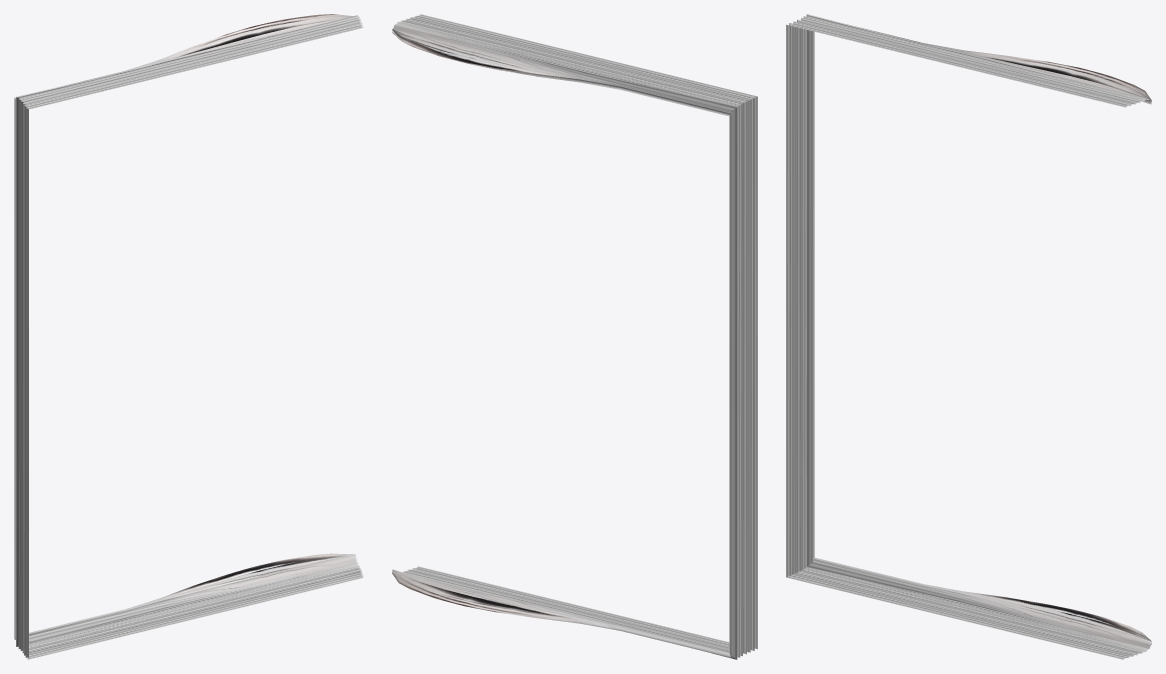
The model's file is MeshRobothorBookFront_5_1_GeomSubset_1.obj.
3 renders of one model, left to right at view 1: azimuth 30°, elevation 25°; view 2: azimuth 150°, elevation 25°; view 3: azimuth 330°, elevation 25°, orthographic.
Parts seen in each view (by area): view 1: MeshRobothorBookFront_5_1_GeomSubset_1; view 2: MeshRobothorBookFront_5_1_GeomSubset_1; view 3: MeshRobothorBookFront_5_1_GeomSubset_1.
Boxes of the visible parts, x1=… form: MeshRobothorBookFront_5_1_GeomSubset_1: x1=14, y1=14, x2=363, y2=659; MeshRobothorBookFront_5_1_GeomSubset_1: x1=392, y1=14, x2=757, y2=659; MeshRobothorBookFront_5_1_GeomSubset_1: x1=786, y1=14, x2=1151, y2=659.
Size of the model in its own units: 0.1395 by 0.212 by 0.0234.
